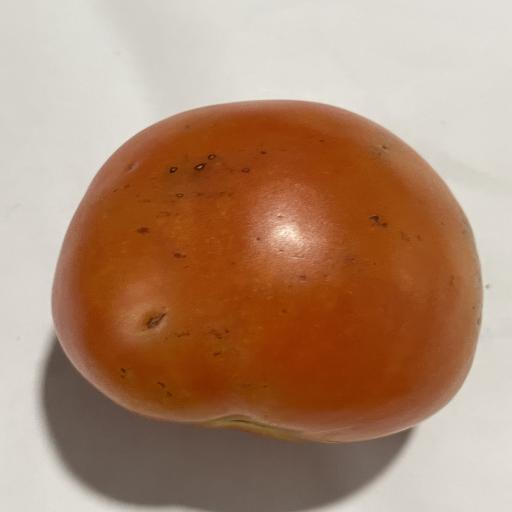ripe: (52, 101, 482, 442)
